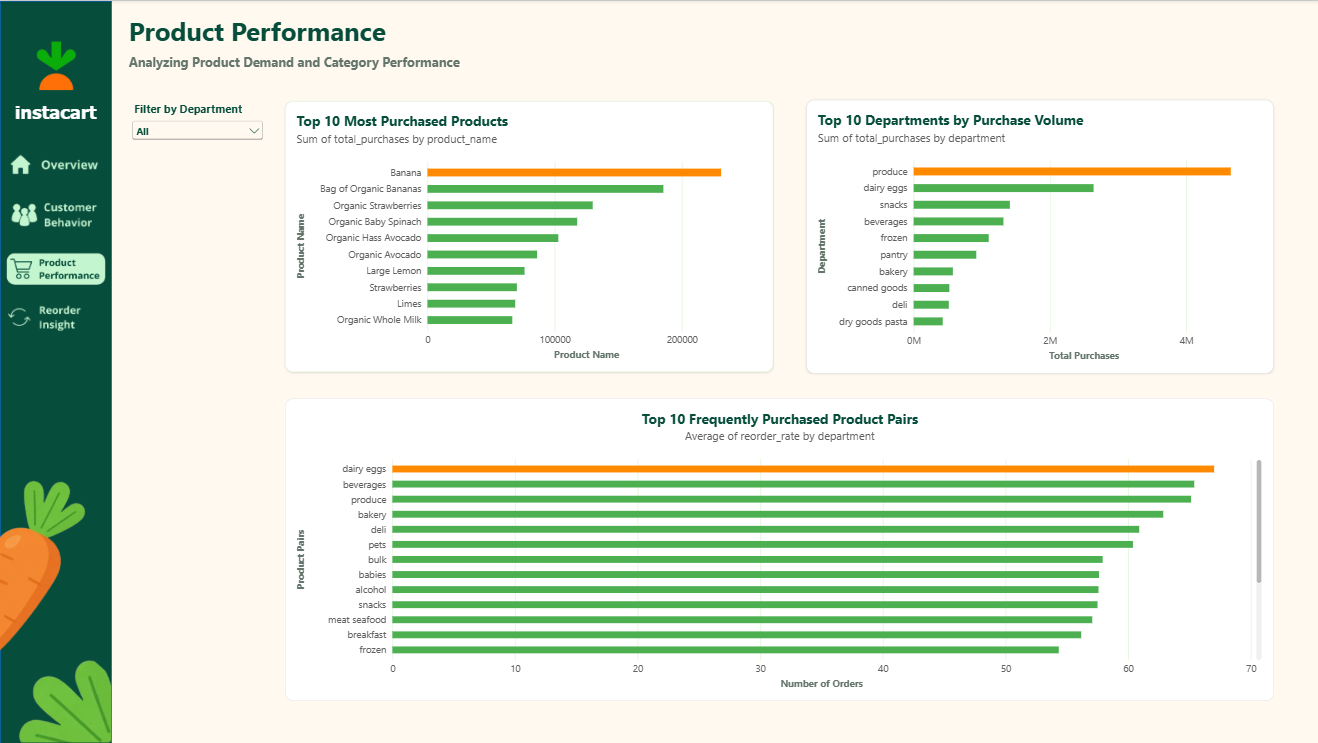

The dashboard page shown, as its layout file describes it:
{"tool":"powerbi","page":{"name":"Product Performance","canvas":[1920,1080],"ordinal":2},"visuals":[{"type":"shape","box":[0,0,162.5,1082.5],"z":0},{"type":"image","box":[45,56.2,72.5,76.2],"z":1000},{"type":"textbox","box":[22,146,120,150],"z":2000},{"type":"image","box":[0,578,162,502],"z":3000},{"type":"image","box":[22,954,140,126],"z":4000},{"type":"textbox","box":[188,18,1044,60],"z":5000},{"type":"textbox","box":[188,76,495,35],"z":6000},{"type":"clusteredBarChart","title":"Top 10 Most Purchased Products","fields":{"Category":["Top Products.product_name"],"Y":["Sum(Top Products.total_purchases)"]},"box":[414,146,710,394],"z":7000},{"type":"clusteredBarChart","title":"Top 10 Departments by Purchase Volume","fields":{"Category":["Top Departments.department"],"Y":["Sum(Top Departments.total_purchases)"]},"box":[1172,144,680,398],"z":8000},{"type":"clusteredBarChart","title":"Top 10 Frequently Purchased Product Pairs","fields":{"Category":["Reorder Departments.department"],"Y":["Avg(Reorder Departments.reorder_rate)"]},"box":[414,578,1438,440],"z":9000},{"type":"slicer","fields":{"Values":["Top Departments.department"]},"box":[188,146,200,76],"z":10000},{"type":"image","box":[15,221.2,131.2,43.8],"z":11000},{"type":"image","box":[15.5,281.8,127.5,61.2],"z":11001},{"type":"image","box":[8.8,353.8,146.2,68.8],"z":11002},{"type":"image","box":[8,442,116.7,37.8],"z":11003}]}

Visuals, with their boxes on the page's 1920x1080 design canvas (x1, y1, x2, y2). These are canvas units, not pixel positions in the 1318x743 screenshot, which may show the page scaled, cropped or inside an application window:
shape: pyautogui.locateOnScreen(0, 0, 162, 1082)
image: pyautogui.locateOnScreen(45, 56, 118, 132)
textbox: pyautogui.locateOnScreen(22, 146, 142, 296)
image: pyautogui.locateOnScreen(0, 578, 162, 1080)
image: pyautogui.locateOnScreen(22, 954, 162, 1080)
textbox: pyautogui.locateOnScreen(188, 18, 1232, 78)
textbox: pyautogui.locateOnScreen(188, 76, 683, 111)
"Top 10 Most Purchased Products" clusteredBarChart: pyautogui.locateOnScreen(414, 146, 1124, 540)
"Top 10 Departments by Purchase Volume" clusteredBarChart: pyautogui.locateOnScreen(1172, 144, 1852, 542)
"Top 10 Frequently Purchased Product Pairs" clusteredBarChart: pyautogui.locateOnScreen(414, 578, 1852, 1018)
slicer - Top Departments.department: pyautogui.locateOnScreen(188, 146, 388, 222)
image: pyautogui.locateOnScreen(15, 221, 146, 265)
image: pyautogui.locateOnScreen(16, 282, 143, 343)
image: pyautogui.locateOnScreen(9, 354, 155, 423)
image: pyautogui.locateOnScreen(8, 442, 125, 480)
